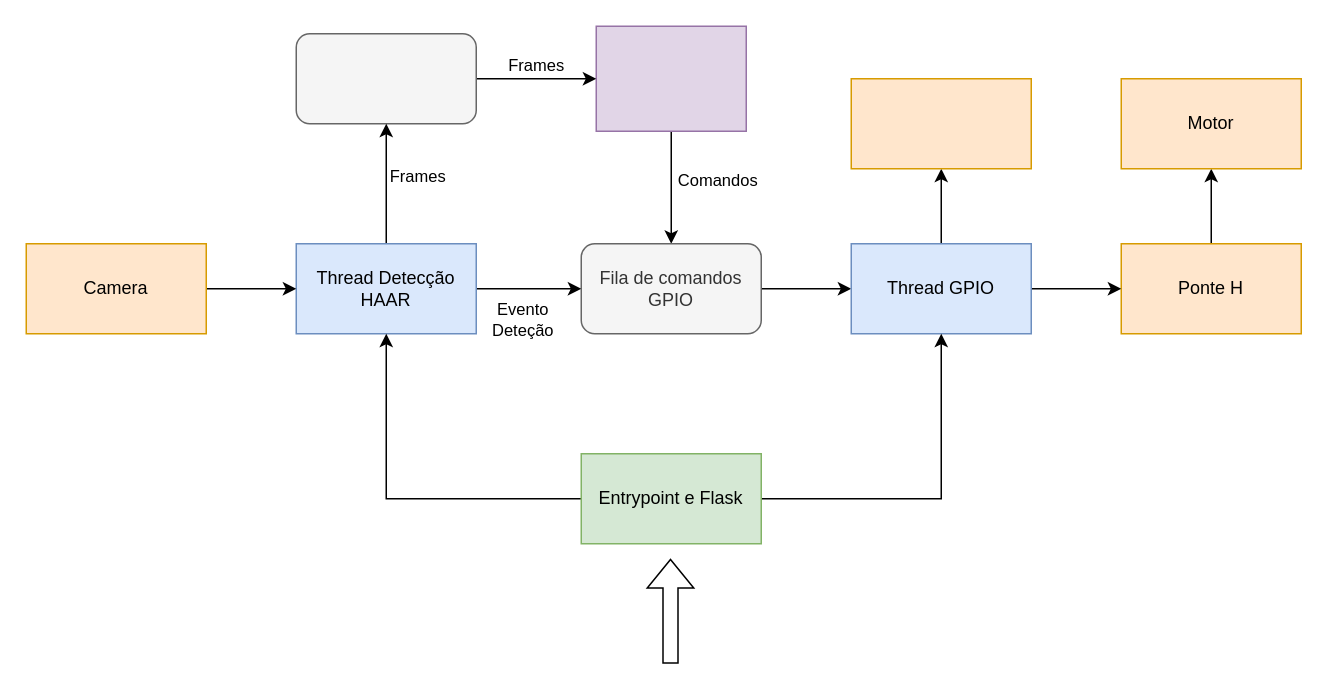
This 1328x690 diagram has some shape labels left out. Each missing label, with the box of its shape:
Aplicação WEB: (595, 25, 746, 131)
Buzzer: (850, 77, 1031, 169)
Fila de frames OpenCV: (295, 32, 476, 124)
